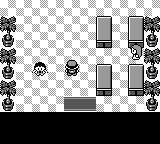main: (65, 61, 79, 75)
no-caminable: (0, 112, 159, 143), (146, 16, 160, 112), (1, 17, 15, 111), (97, 65, 112, 96), (97, 17, 111, 47), (129, 17, 143, 47), (129, 66, 143, 96)
npc: (34, 62, 47, 76), (130, 44, 142, 59)
puerta: (61, 96, 98, 112)
